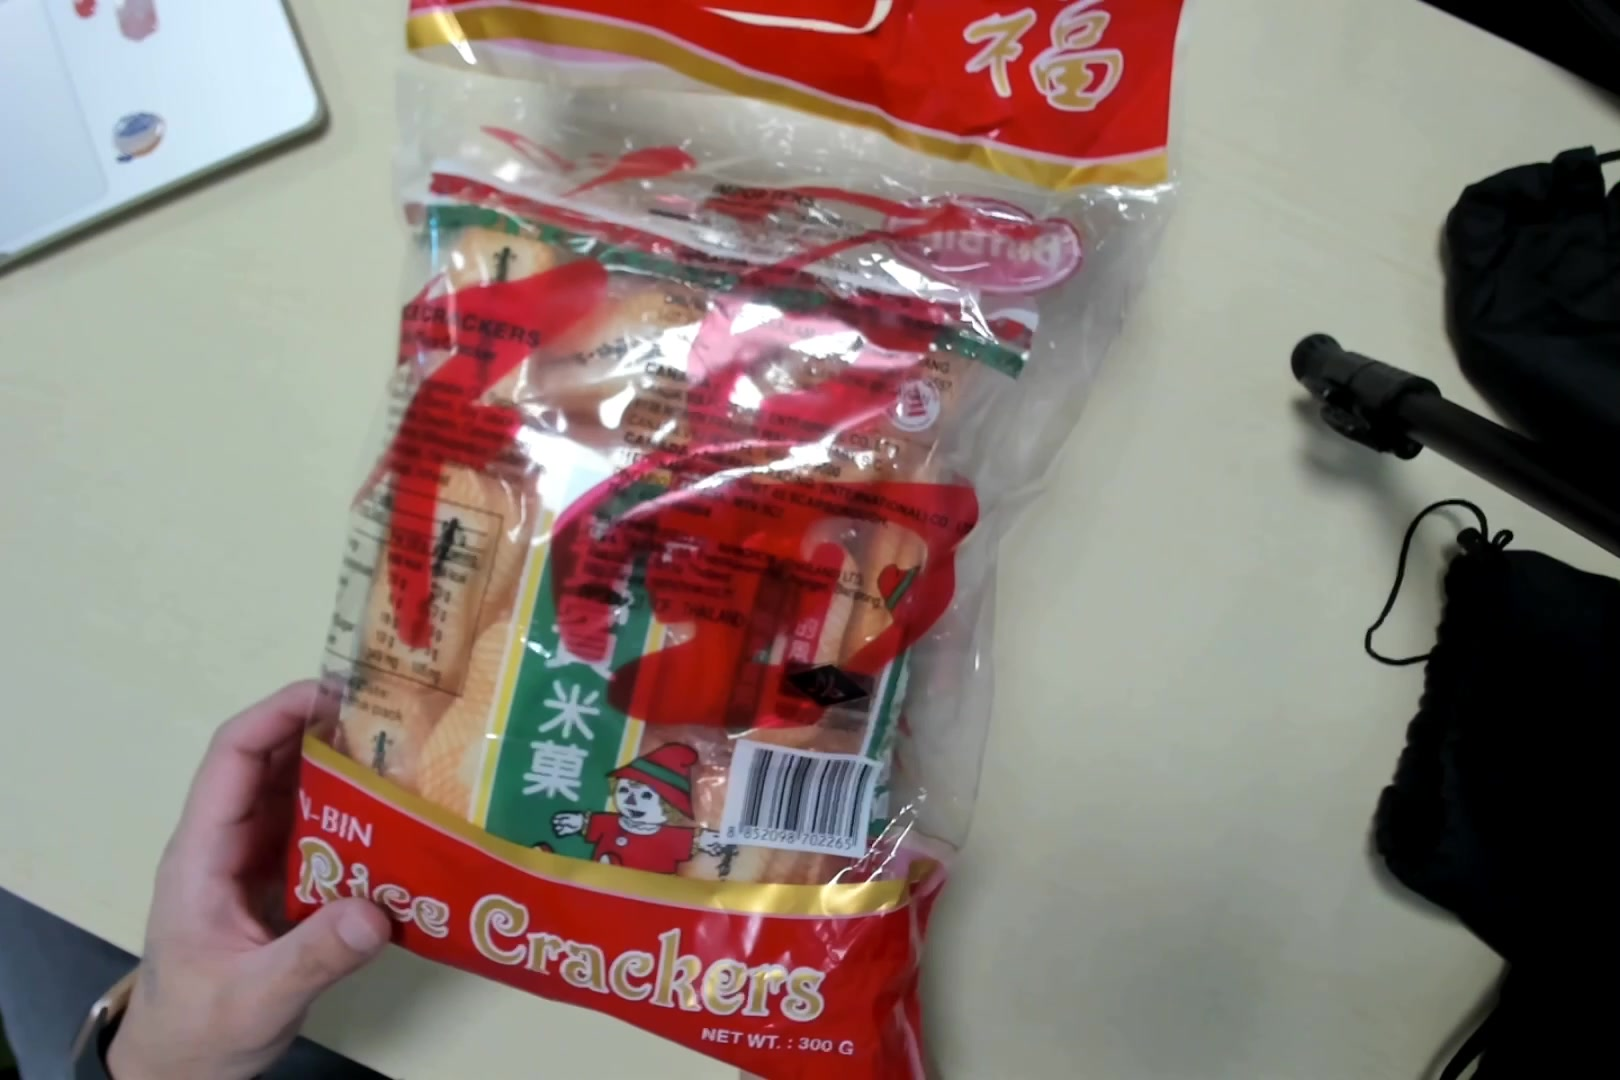PotatoChipsKeropok_300-399g_NonHalal_NonHealthy: (290, 2, 1164, 1080)
